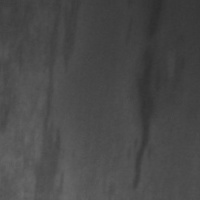inclusion: (32, 0, 81, 196), (126, 4, 174, 192), (0, 28, 33, 140)
